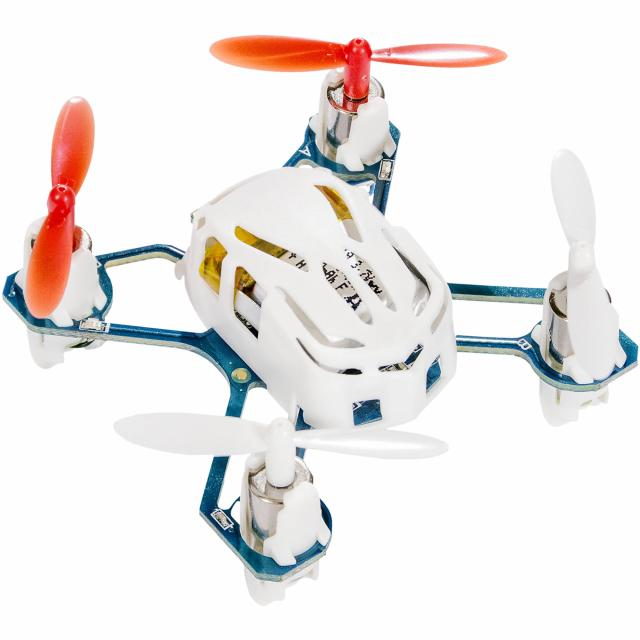drones: (2, 28, 640, 606)
